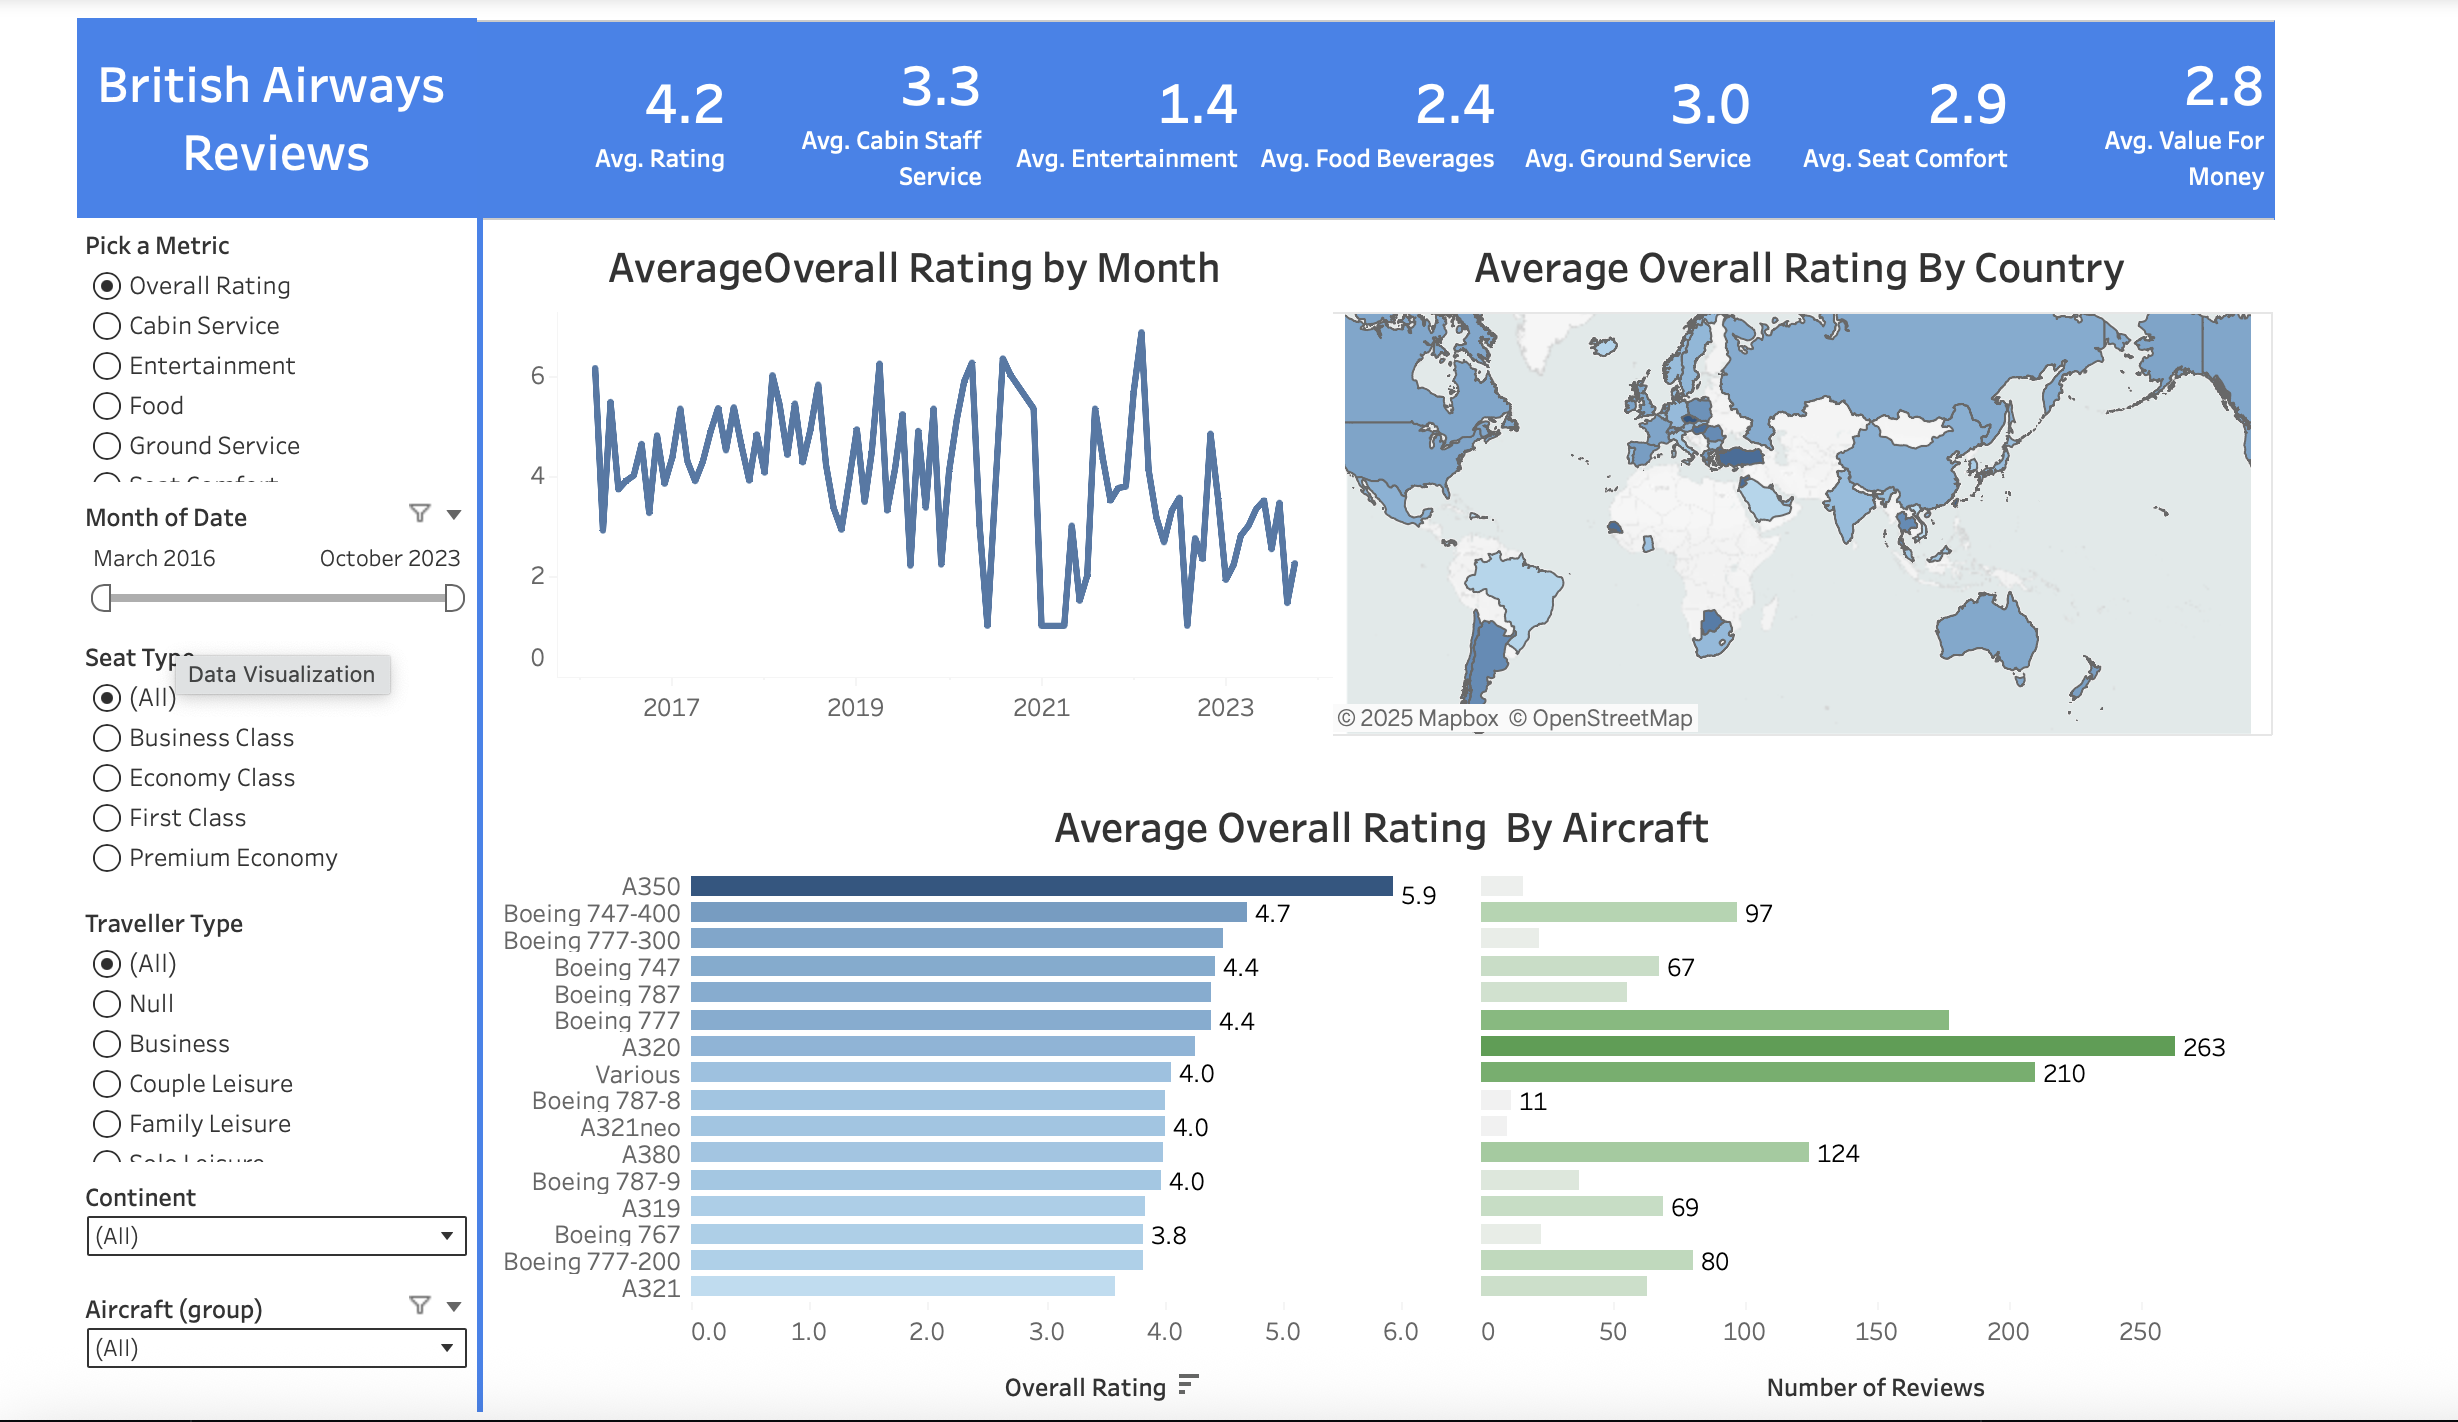

Layout of this report page (visuals, bound fields, positions):
{"tool":"tableau","page":{"name":"Dashboard 1","canvas":[1200,900],"ordinal":0},"visuals":[{"type":"text","box":[0,16,200,100]},{"type":"worksheet","title":"Summary","mark":"Automatic","box":[200,17,900,100]},{"type":"parameter","param":"[Parameters].[Parameter 1]","box":[0,116,200,144]},{"type":"blank","box":[200,116,3,597]},{"type":"worksheet","title":"Month","mark":"Automatic","rows":["Calculation_5170624978158813184"],"cols":["date"],"box":[210,120,418,255]},{"type":"worksheet","title":"Map","mark":"Automatic","box":[626,120,472,255]},{"type":"filter","title":"Map","param":"[federated.0e7ey8g1u70tcq1co3r0m12tmhtc].[tmn:date:qk]","box":[0,260,200,69]},{"type":"filter","title":"Map","param":"[federated.0e7ey8g1u70tcq1co3r0m12tmhtc].[none:seat_type:nk]","box":[0,329,200,127]},{"type":"worksheet","title":"Aircraft","mark":"Automatic","cols":["Calculation_5170624978158813184","ba_reviews.csv_91050F62EC3B4A7E8B984F9B9D26E187"],"box":[207,400,891,314]},{"type":"filter","title":"Map","param":"[federated.0e7ey8g1u70tcq1co3r0m12tmhtc].[none:traveller_type:nk]","box":[0,456,200,144]},{"type":"filter","title":"Map","param":"[federated.0e7ey8g1u70tcq1co3r0m12tmhtc].[none:Continent:nk]","box":[0,600,200,52]},{"type":"filter","title":"Map","param":"[federated.0e7ey8g1u70tcq1co3r0m12tmhtc].[Aircraft (group)]","box":[0,652,200,52]}]}

Visuals, with their boxes on the page's 1200x900 design canvas (x1, y1, x2, y2). These are canvas units, not pixel positions in the 2458x1422 screenshot, which may show the page scaled, cropped or inside an application window:
text: locate(0, 16, 200, 116)
"Summary" worksheet: locate(200, 17, 1100, 117)
parameter: locate(0, 116, 200, 260)
blank: locate(200, 116, 203, 713)
"Month" worksheet: locate(210, 120, 628, 375)
"Map" worksheet: locate(626, 120, 1098, 375)
"Map" filter: locate(0, 260, 200, 329)
"Map" filter: locate(0, 329, 200, 456)
"Aircraft" worksheet: locate(207, 400, 1098, 714)
"Map" filter: locate(0, 456, 200, 600)
"Map" filter: locate(0, 600, 200, 652)
"Map" filter: locate(0, 652, 200, 704)
